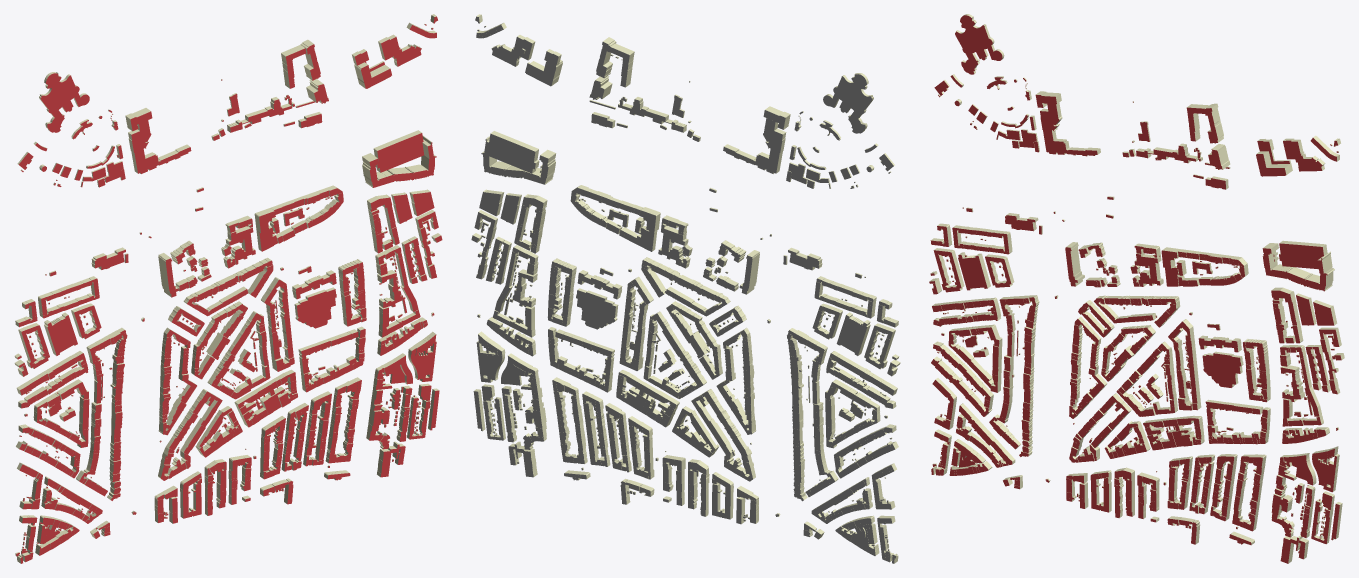
The picture shows the model from 3 angles, left to right: view 1: azimuth 30°, elevation 25°; view 2: azimuth 150°, elevation 25°; view 3: azimuth 330°, elevation 25°; orthographic projection. The views are drawn at different scales.
Parts seen in each view (by area): view 1: NL.IMBAG.Pand.0599100010037503-858, NL.IMBAG.Pand.0599100000702262-1865, NL.IMBAG.Pand.0599100010006178-1908, NL.IMBAG.Pand.0599100000702222-1214, NL.IMBAG.Pand.0599100000281842-927, NL.IMBAG.Pand.0599100000609214-294, NL.IMBAG.Pand.0599100000363319-1837, NL.IMBAG.Pand.0599100000609324-1767, NL.IMBAG.Pand.0599100000677155-1918, NL.IMBAG.Pand.0599100000639297-581, NL.IMBAG.Pand.0599100110025339-1326, NL.IMBAG.Pand.0599100000643702-1435 (+3 smaller); view 2: NL.IMBAG.Pand.0599100010037503-858, NL.IMBAG.Pand.0599100010006178-1908, NL.IMBAG.Pand.0599100000702262-1865, NL.IMBAG.Pand.0599100000702222-1214, NL.IMBAG.Pand.0599100000281842-927, NL.IMBAG.Pand.0599100000609214-294, NL.IMBAG.Pand.0599100000363319-1837, NL.IMBAG.Pand.0599100000609324-1767, NL.IMBAG.Pand.0599100000639297-581, NL.IMBAG.Pand.0599100110025339-1326, NL.IMBAG.Pand.0599100000643702-1435, NL.IMBAG.Pand.0599100000672579-1834 (+3 smaller); view 3: NL.IMBAG.Pand.0599100010037503-858, NL.IMBAG.Pand.0599100000702262-1865, NL.IMBAG.Pand.0599100000702222-1214, NL.IMBAG.Pand.0599100010006178-1908, NL.IMBAG.Pand.0599100000281842-927, NL.IMBAG.Pand.0599100000609214-294, NL.IMBAG.Pand.0599100000609324-1767, NL.IMBAG.Pand.0599100000363319-1837, NL.IMBAG.Pand.0599100000677155-1918, NL.IMBAG.Pand.0599100000679046-897, NL.IMBAG.Pand.0599100110025339-1326, NL.IMBAG.Pand.0599100000639297-581 (+3 smaller).
Boxes of the visible parts, box(x1,y1,x2,y2) form: NL.IMBAG.Pand.0599100010037503-858: box(39, 72, 89, 132); NL.IMBAG.Pand.0599100000702262-1865: box(362, 153, 436, 187); NL.IMBAG.Pand.0599100010006178-1908: box(373, 130, 424, 172); NL.IMBAG.Pand.0599100000702222-1214: box(294, 287, 336, 328); NL.IMBAG.Pand.0599100000281842-927: box(128, 120, 158, 173); NL.IMBAG.Pand.0599100000609214-294: box(44, 312, 77, 355); NL.IMBAG.Pand.0599100000363319-1837: box(227, 97, 292, 132); NL.IMBAG.Pand.0599100000609324-1767: box(225, 226, 255, 264); NL.IMBAG.Pand.0599100000677155-1918: box(354, 62, 391, 88); NL.IMBAG.Pand.0599100000639297-581: box(180, 482, 201, 518); NL.IMBAG.Pand.0599100110025339-1326: box(278, 295, 293, 358); NL.IMBAG.Pand.0599100000643702-1435: box(408, 350, 435, 379); NL.IMBAG.Pand.0599100010037503-858: box(823, 73, 873, 133); NL.IMBAG.Pand.0599100010006178-1908: box(488, 131, 539, 173); NL.IMBAG.Pand.0599100000702262-1865: box(481, 149, 556, 184); NL.IMBAG.Pand.0599100000702222-1214: box(576, 288, 618, 329); NL.IMBAG.Pand.0599100000281842-927: box(755, 118, 786, 173); NL.IMBAG.Pand.0599100000609214-294: box(836, 312, 870, 355); NL.IMBAG.Pand.0599100000363319-1837: box(621, 97, 686, 132); NL.IMBAG.Pand.0599100000609324-1767: box(658, 225, 688, 264); NL.IMBAG.Pand.0599100000639297-581: box(712, 483, 733, 519); NL.IMBAG.Pand.0599100110025339-1326: box(620, 295, 635, 358); NL.IMBAG.Pand.0599100000643702-1435: box(477, 350, 504, 380); NL.IMBAG.Pand.0599100000672579-1834: box(609, 43, 634, 87); NL.IMBAG.Pand.0599100010037503-858: box(955, 14, 1004, 74); NL.IMBAG.Pand.0599100000702262-1865: box(1262, 243, 1334, 291); NL.IMBAG.Pand.0599100000702222-1214: box(1202, 351, 1243, 387); NL.IMBAG.Pand.0599100010006178-1908: box(1279, 240, 1327, 269); NL.IMBAG.Pand.0599100000281842-927: box(1040, 102, 1069, 154); NL.IMBAG.Pand.0599100000609214-294: box(958, 252, 990, 290); NL.IMBAG.Pand.0599100000609324-1767: box(1134, 254, 1163, 286); NL.IMBAG.Pand.0599100000363319-1837: box(1136, 143, 1198, 163); NL.IMBAG.Pand.0599100000677155-1918: box(1256, 151, 1292, 176); NL.IMBAG.Pand.0599100000679046-897: box(1065, 242, 1084, 286); NL.IMBAG.Pand.0599100110025339-1326: box(1185, 338, 1200, 403); NL.IMBAG.Pand.0599100000639297-581: box(1091, 479, 1111, 512).
Size of the model in its own units: 1022 by 1120 by 37.93.
